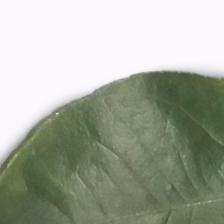healthy: (8, 57, 224, 223)
